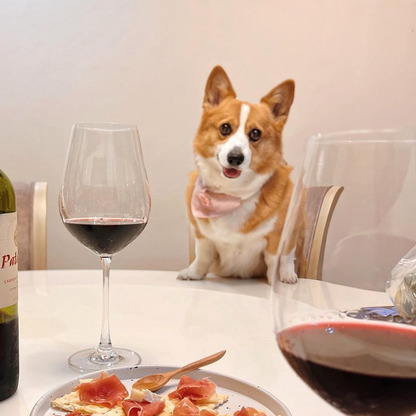Corgi: (180, 59, 303, 302)
